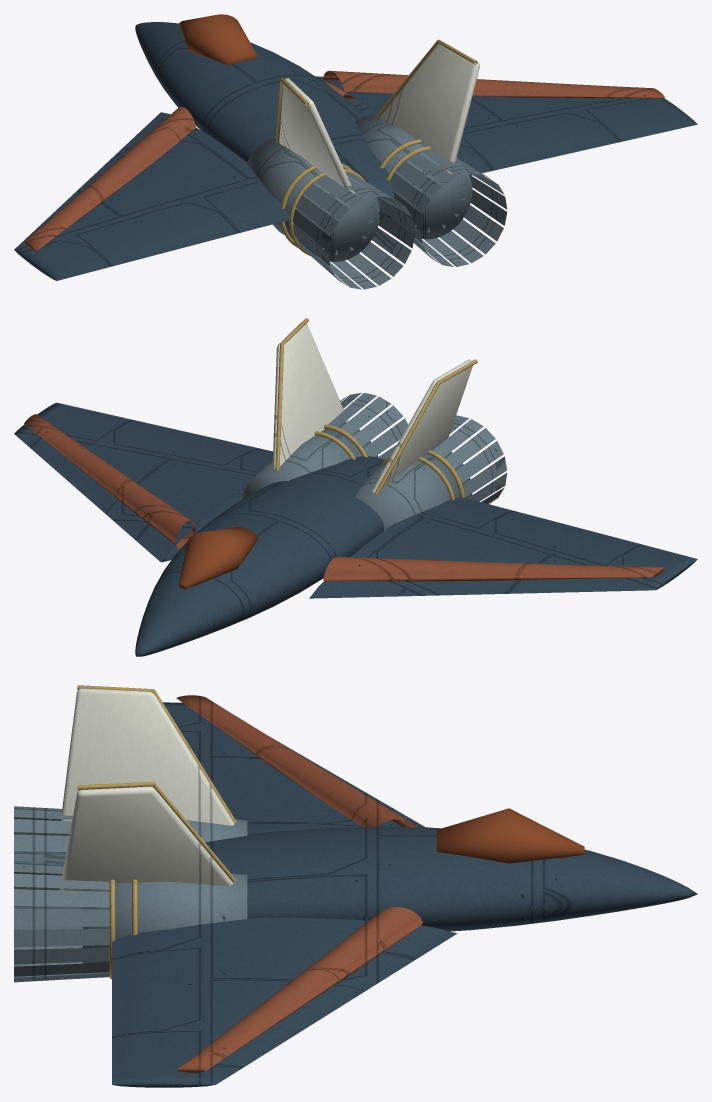
Rendered from drone-high.glb.
The picture shows the model from 3 angles, top to bottom: view 1: azimuth 30°, elevation 25°; view 2: azimuth 150°, elevation 25°; view 3: azimuth 270°, elevation 25°; orthographic projection. The views are drawn at different scales.
Parts seen in each view (by area): view 1: navy-surfaces, titanium-surfaces, ceramic-surfaces, hostile-surfaces, enemyglass-surfaces, brass-surfaces; view 2: navy-surfaces, titanium-surfaces, hostile-surfaces, ceramic-surfaces, enemyglass-surfaces, brass-surfaces; view 3: navy-surfaces, ceramic-surfaces, titanium-surfaces, hostile-surfaces, enemyglass-surfaces, brass-surfaces.
Part boxes in pixels (x1=…): navy-surfaces: x1=14, y1=22, x2=697, y2=280; titanium-surfaces: x1=246, y1=114, x2=507, y2=289; ceramic-surfaces: x1=279, y1=44, x2=479, y2=193; hostile-surfaces: x1=24, y1=70, x2=664, y2=251; enemyglass-surfaces: x1=179, y1=14, x2=257, y2=65; brass-surfaces: x1=275, y1=39, x2=477, y2=255; navy-surfaces: x1=14, y1=402, x2=697, y2=656; titanium-surfaces: x1=242, y1=392, x2=507, y2=530; hostile-surfaces: x1=24, y1=414, x2=664, y2=581; ceramic-surfaces: x1=272, y1=322, x2=472, y2=492; enemyglass-surfaces: x1=179, y1=527, x2=258, y2=589; brass-surfaces: x1=275, y1=318, x2=477, y2=499; navy-surfaces: x1=112, y1=702, x2=697, y2=1087; ceramic-surfaces: x1=60, y1=688, x2=234, y2=890; titanium-surfaces: x1=14, y1=806, x2=247, y2=982; hostile-surfaces: x1=176, y1=695, x2=422, y2=1072; enemyglass-surfaces: x1=437, y1=808, x2=584, y2=863; brass-surfaces: x1=77, y1=685, x2=236, y2=979.
Bounding box in the file's own units: 5.2 × 1.36 × 3.96.
Materials: 7 (6 with a texture image).
